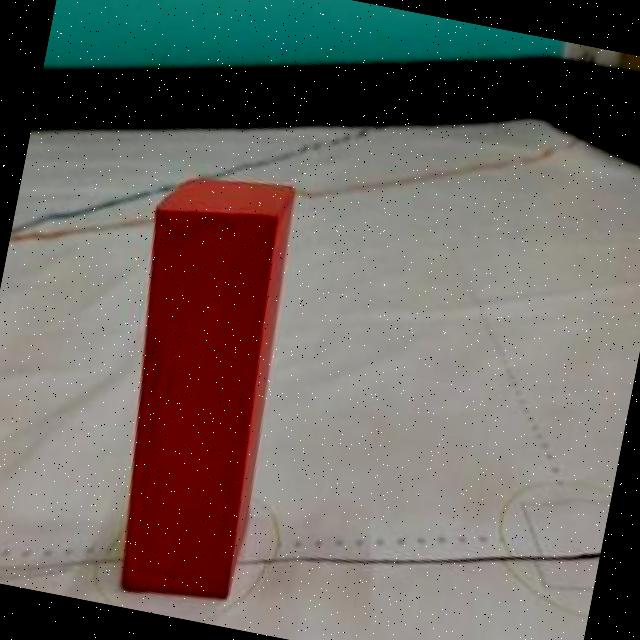redbox: (80, 159, 313, 610)
